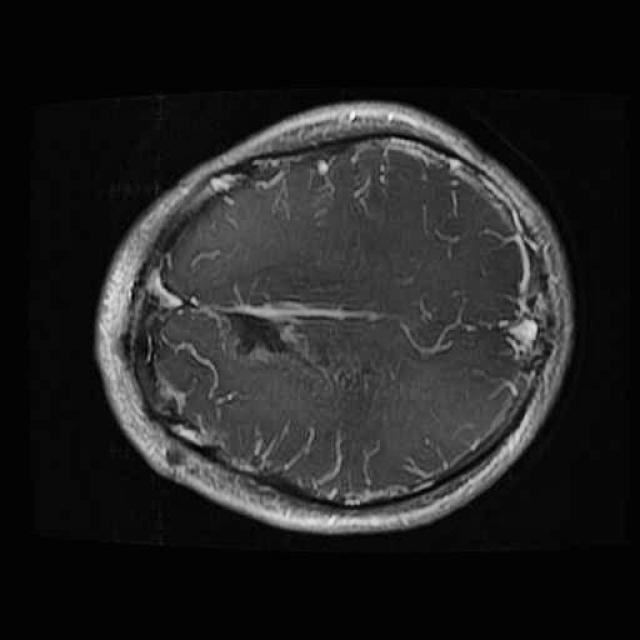Non-Tumor: (214, 272, 330, 388)
